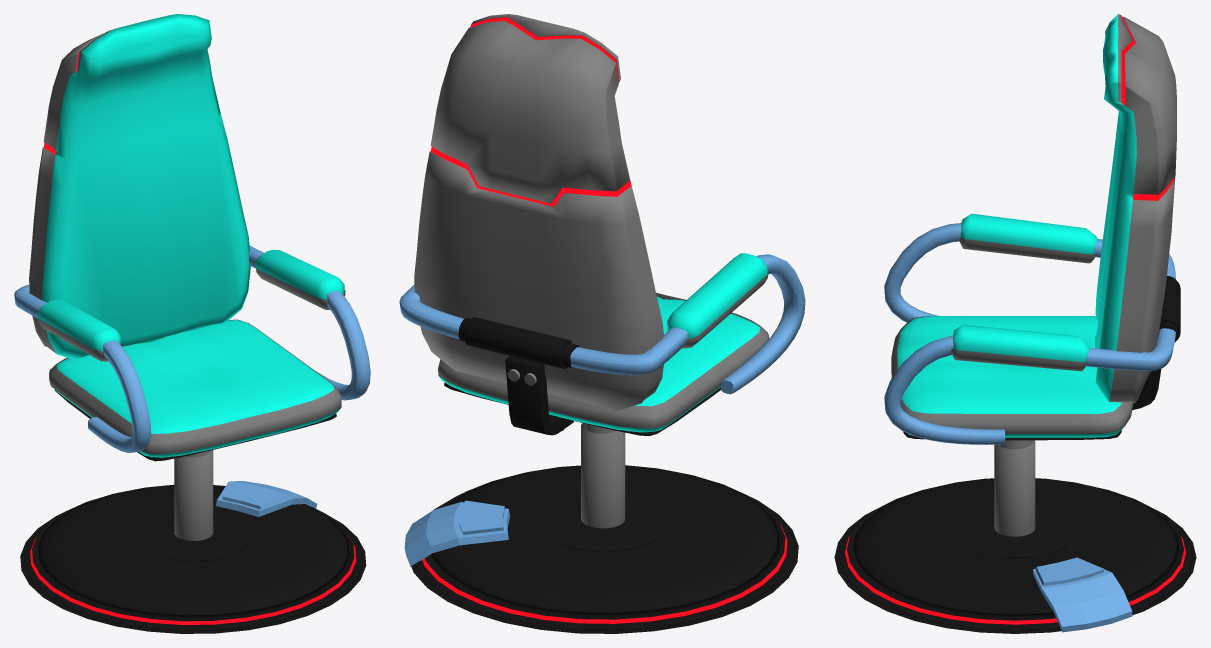
The model's file is chair_tier21.fbx.
3 renders of one model, left to right at view 1: azimuth 30°, elevation 25°; view 2: azimuth 150°, elevation 25°; view 3: azimuth 270°, elevation 25°, orthographic. The views are drawn at different scales.
Parts seen in each view (by area): view 1: Plane, Cylinder.003, Cube, BezierCurve, Cube.001, Cylinder.002, Cylinder.001, Cube.004, Cube.002, Cube.007, Cube.006, Cube.003; view 2: Plane, Cylinder.003, BezierCurve, Cube.001, Cylinder.002, Cube, Cylinder.001, Cube.002, Cylinder.004, Cube.005, Cube.006; view 3: Cylinder.003, Plane, Cube, BezierCurve, Cylinder.002, Cube.001, Cylinder.001, Cube.004, Cube.002, Cube.006, Cube.007, Cylinder.004 (+1 smaller).
Part boxes in pixels (bbox=[...]): Plane: bbox=[29, 14, 250, 358]; Cylinder.003: bbox=[20, 481, 366, 633]; Cube: bbox=[51, 320, 340, 457]; BezierCurve: bbox=[14, 245, 370, 452]; Cube.001: bbox=[49, 319, 341, 453]; Cylinder.002: bbox=[138, 511, 248, 564]; Cylinder.001: bbox=[174, 450, 213, 540]; Cube.004: bbox=[255, 250, 344, 299]; Cube.002: bbox=[37, 300, 121, 351]; Cube.007: bbox=[256, 269, 345, 309]; Cube.006: bbox=[38, 318, 121, 361]; Cube.003: bbox=[55, 390, 336, 461]; Plane: bbox=[414, 14, 663, 410]; Cylinder.003: bbox=[404, 465, 798, 633]; BezierCurve: bbox=[399, 254, 805, 394]; Cube.001: bbox=[438, 292, 769, 428]; Cylinder.002: bbox=[540, 494, 665, 555]; Cube: bbox=[439, 296, 760, 432]; Cylinder.001: bbox=[581, 423, 625, 528]; Cube.002: bbox=[667, 253, 767, 338]; Cylinder.004: bbox=[458, 317, 579, 368]; Cube.005: bbox=[505, 355, 573, 435]; Cube.006: bbox=[667, 273, 768, 348]; Cylinder.003: bbox=[834, 478, 1196, 633]; Plane: bbox=[1095, 14, 1176, 402]; Cube: bbox=[897, 316, 1124, 437]; BezierCurve: bbox=[884, 223, 1175, 444]; Cylinder.002: bbox=[957, 505, 1072, 561]; Cube.001: bbox=[891, 316, 1133, 433]; Cylinder.001: bbox=[994, 440, 1035, 536]; Cube.004: bbox=[953, 324, 1089, 361]; Cube.002: bbox=[960, 213, 1097, 253]; Cube.006: bbox=[959, 237, 1094, 263]; Cube.007: bbox=[951, 348, 1086, 371]; Cylinder.004: bbox=[1158, 276, 1180, 342].
Size of the model in its own units: 96.91 by 156 by 96.91.
